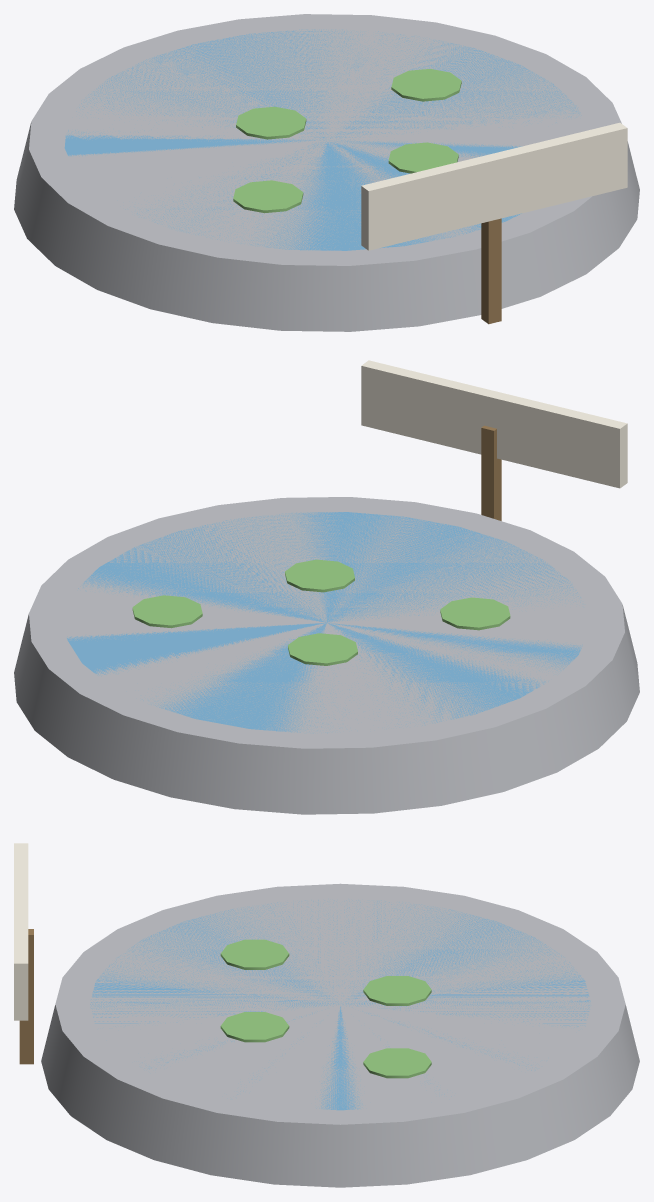
Rendered from kolam_lele.glb.
3 renders of one model, top to bottom at view 1: azimuth 30°, elevation 25°; view 2: azimuth 150°, elevation 25°; view 3: azimuth 270°, elevation 25°, orthographic. The views are drawn at different scales.
Visible parts, largest first — view 1: kolam_lele; view 2: kolam_lele; view 3: kolam_lele.
Boxes of the visible parts, x1,y1,x2,y2 form: kolam_lele: (14,14,639,331); kolam_lele: (14,360,639,814); kolam_lele: (14,843,639,1187).
Size of the model in its own units: 2.1 by 0.61 by 2.19.
